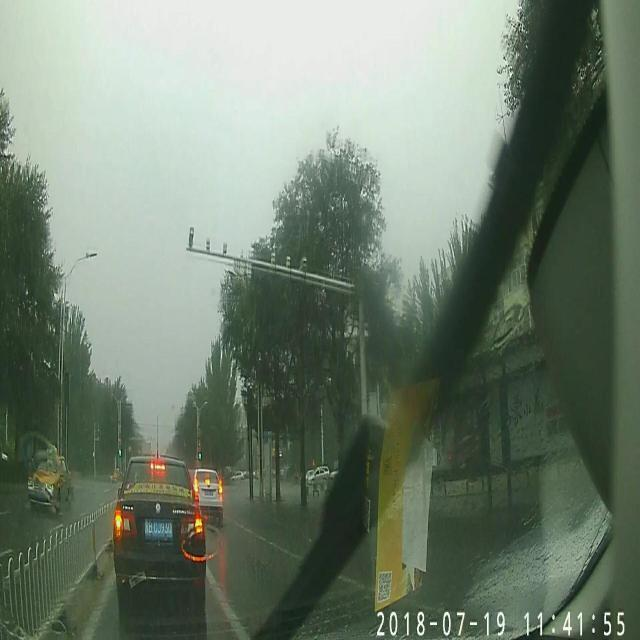car: (113, 458, 201, 600), (27, 450, 72, 510), (193, 468, 222, 520), (308, 466, 329, 484)
